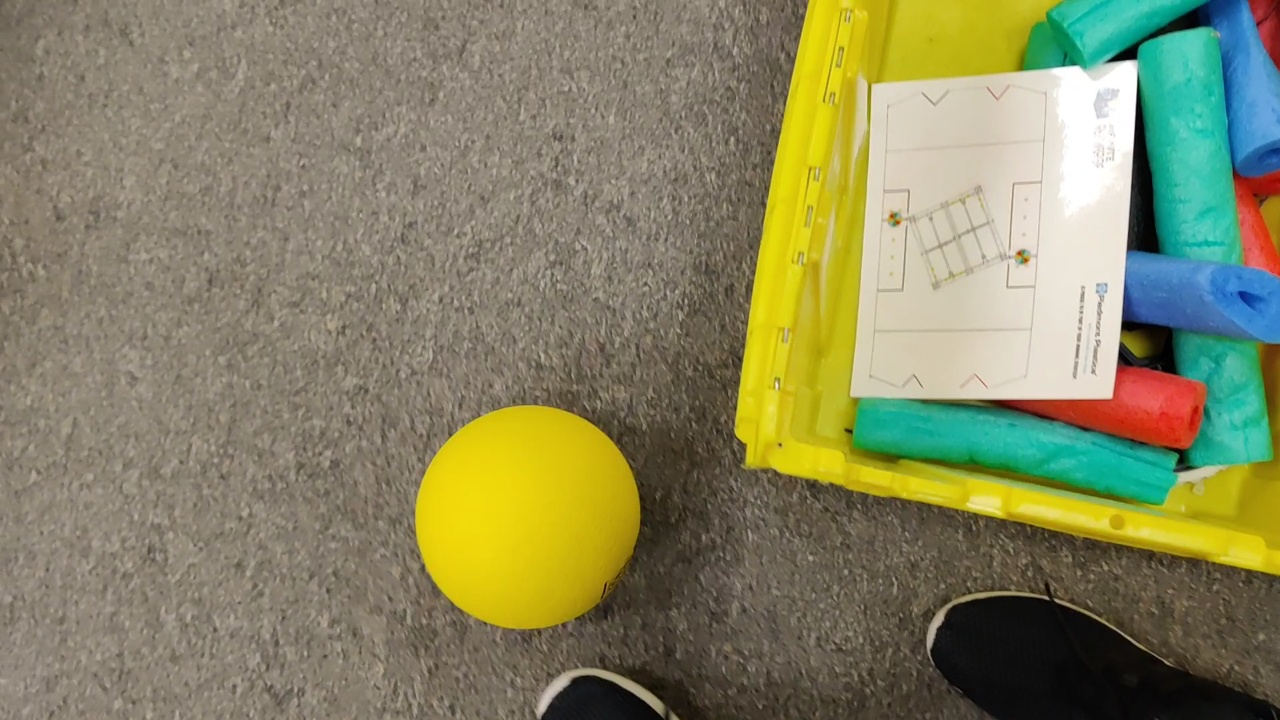Ball: (415, 406, 643, 629)
